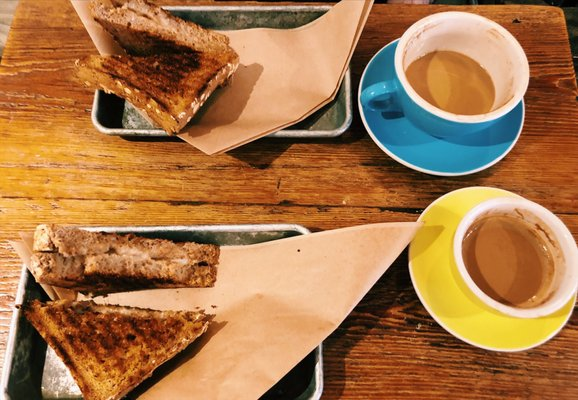soup: (70, 0, 240, 136)
